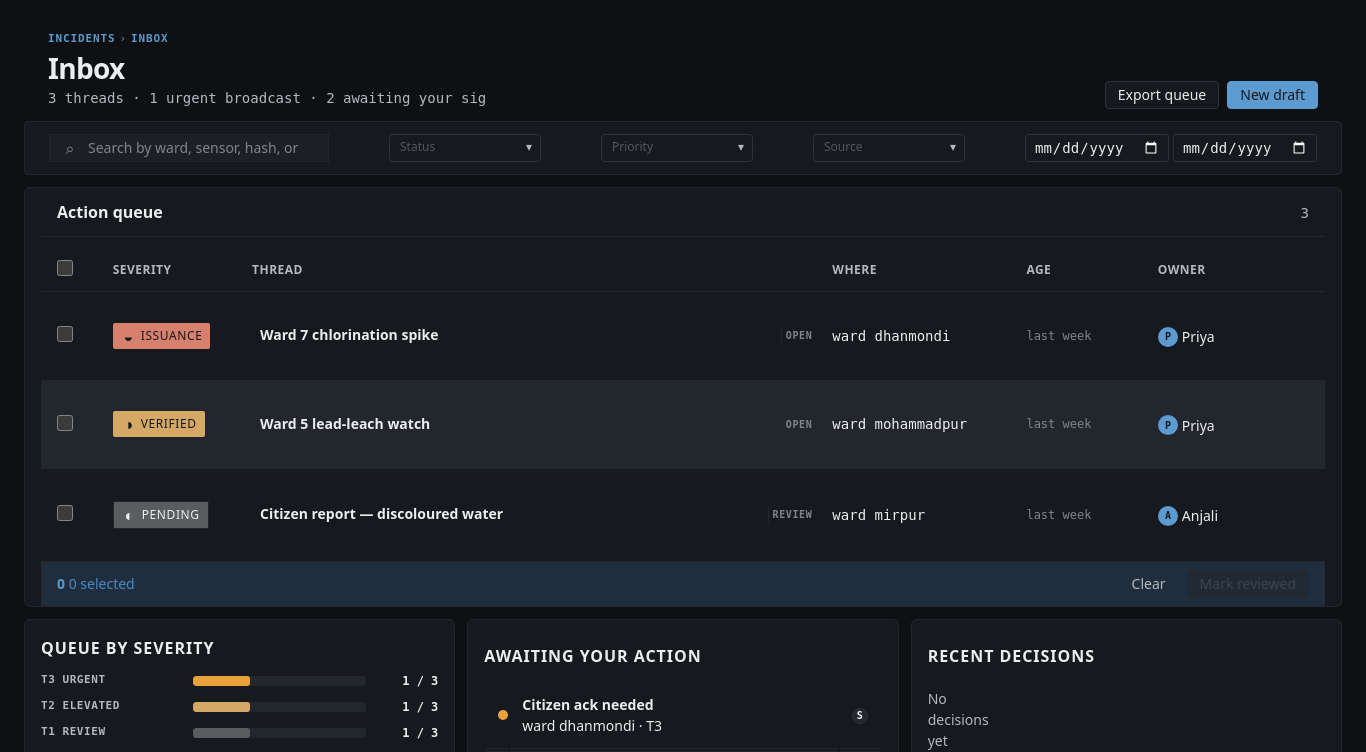
Test: InboxList I/O matrix › filter_T3: selecting Urgent in the Status dropdown shows only T3 rows; option is active
The width and height of the screenshot is (1366, 752).
Expected: the link with test id "inbox-row" showing "Ward 7 chlorination spike Open" is shown, [252, 326, 812, 345]
Click the dropdown with test id "inbox-filter-status-trigger" at (465, 148), box [389, 134, 541, 162]
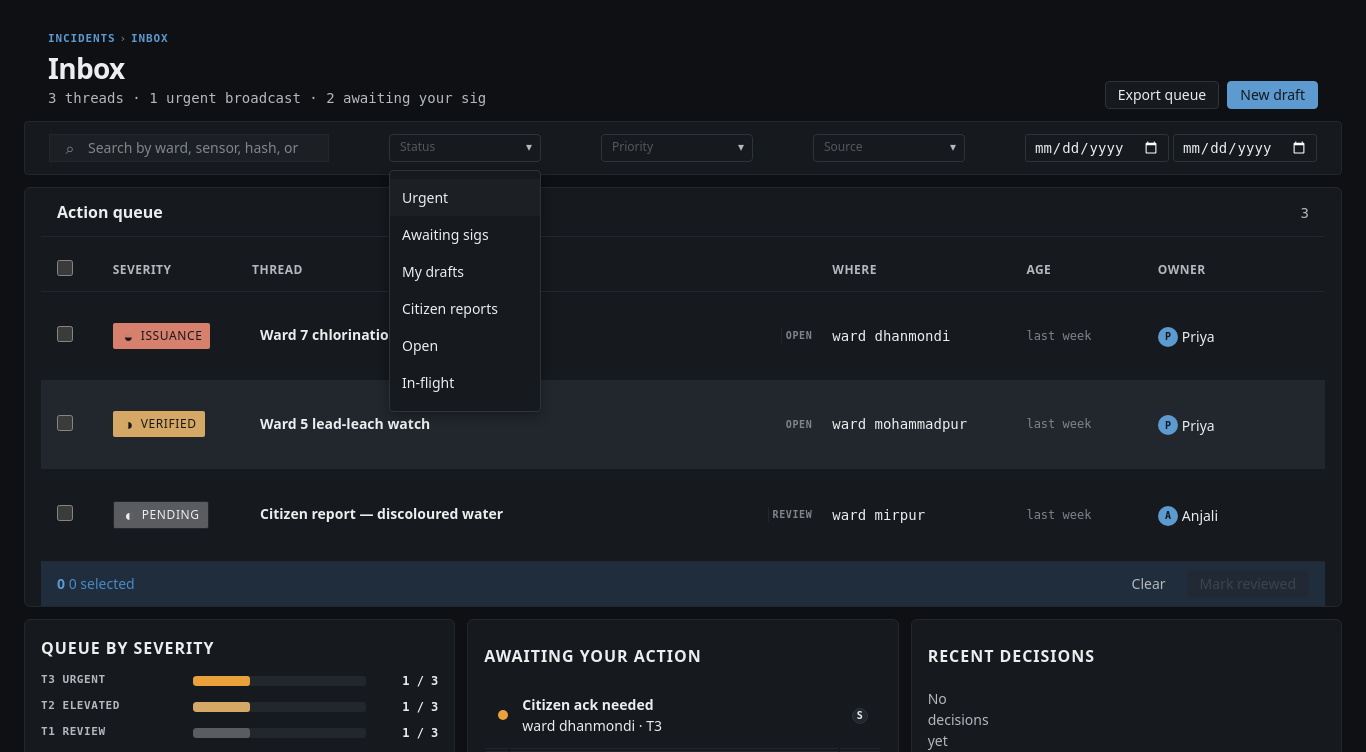
Click the option with test id "inbox-filter-status-option-urgent" at (465, 197), box [390, 179, 540, 216]
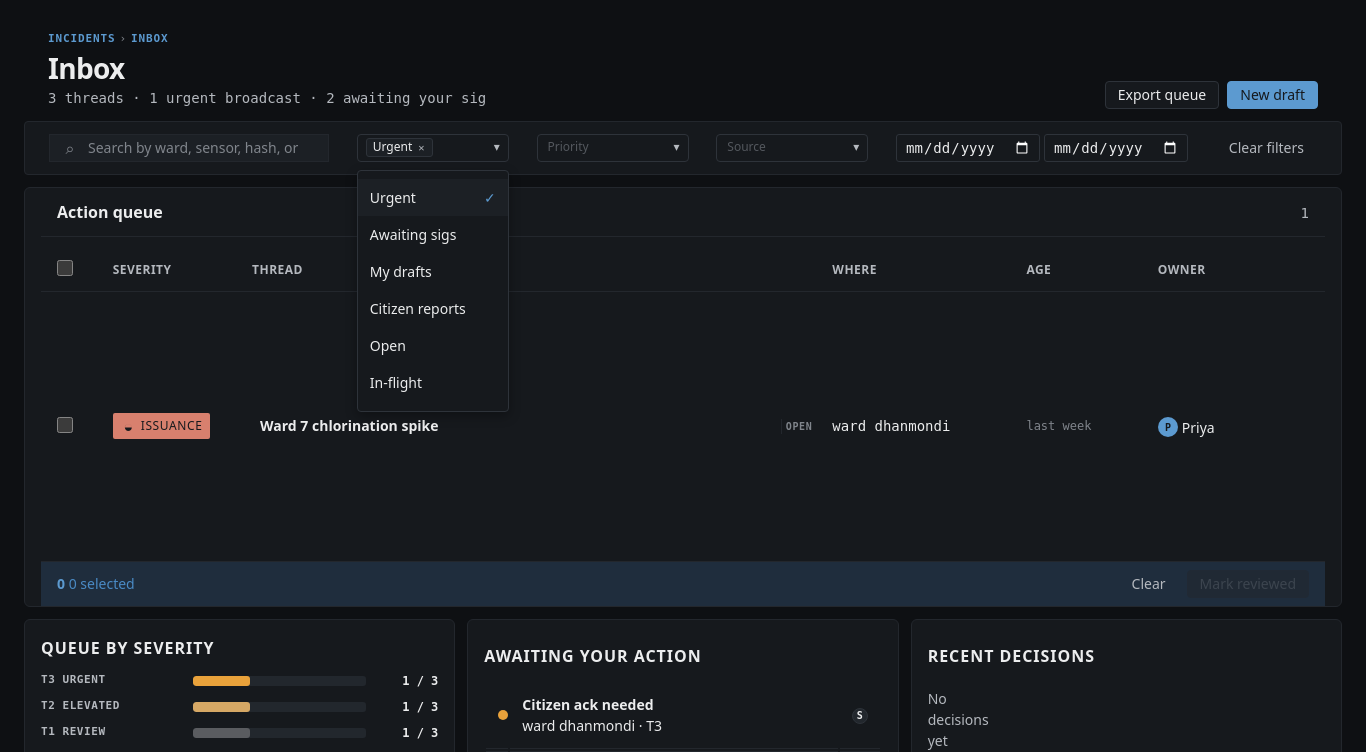
Expected: the link with test id "inbox-row" shows "Ward 7 chlorination spike", [252, 417, 812, 436]
Result: the number of links with test id "inbox-row" is 1 at [252, 417, 812, 436]
